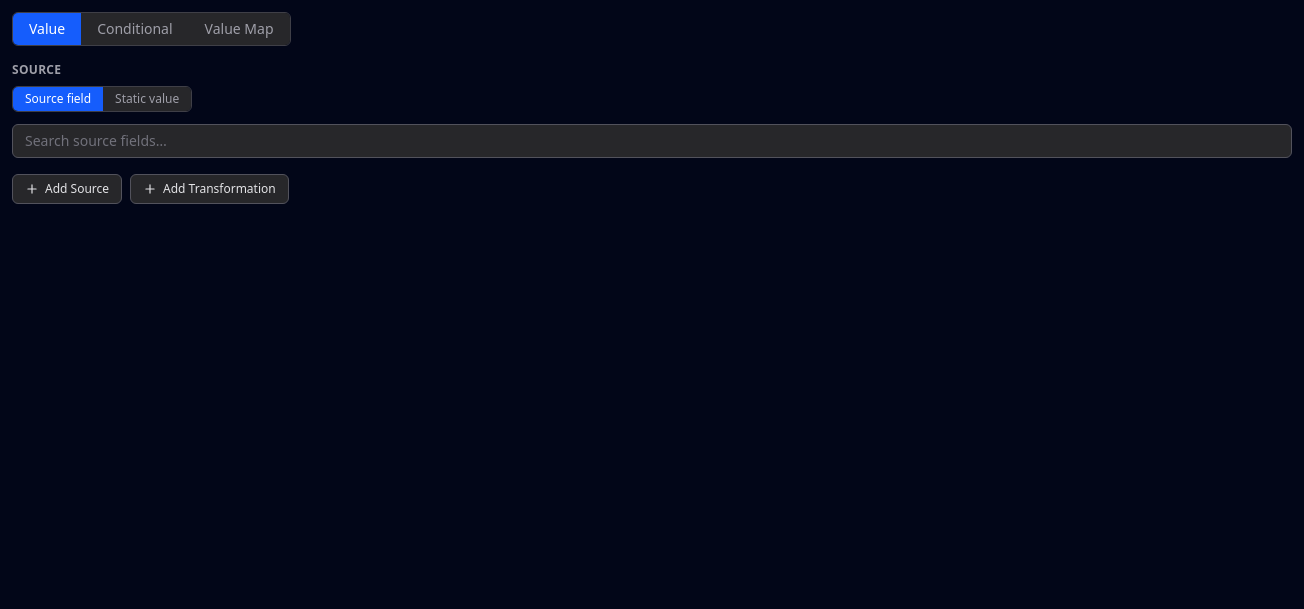
Scenario: T-09 — AE-03: Add Transformation from empty state › selecting concat from empty state renders ArgumentForm for concat
The width and height of the screenshot is (1304, 609).
Click the button with test id "builder-add-transform-btn": {"x": 209, "y": 189} [130,174,289,204]
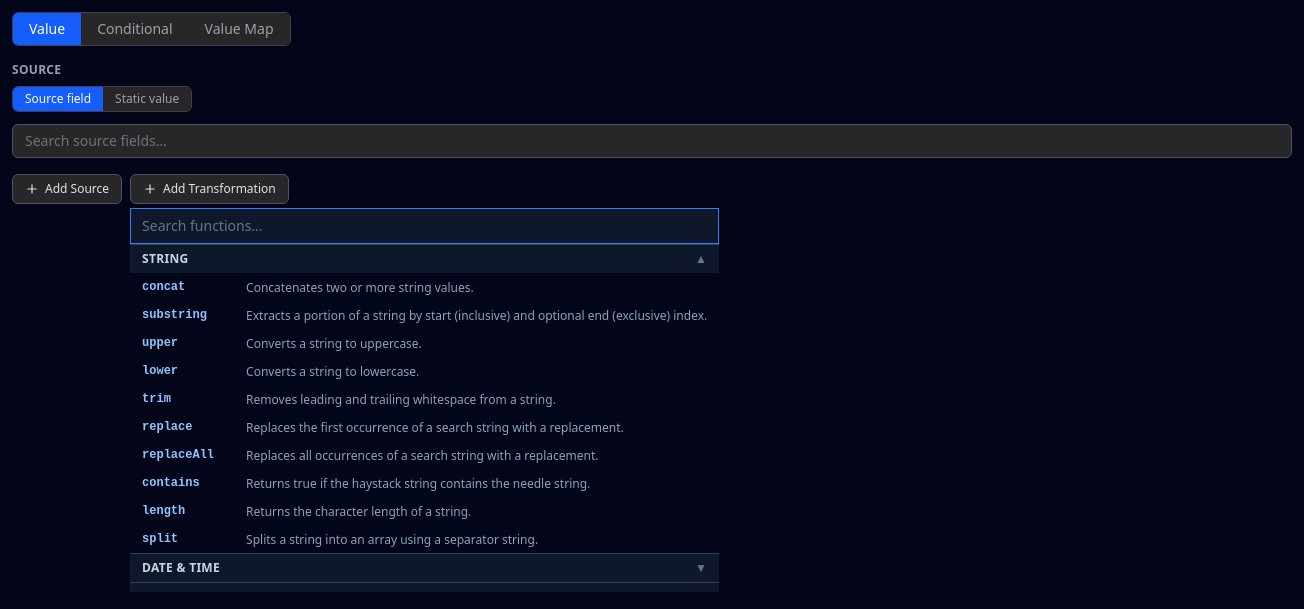
Click the button with test id "transform-fn-concat": {"x": 425, "y": 287} [130,273,719,301]
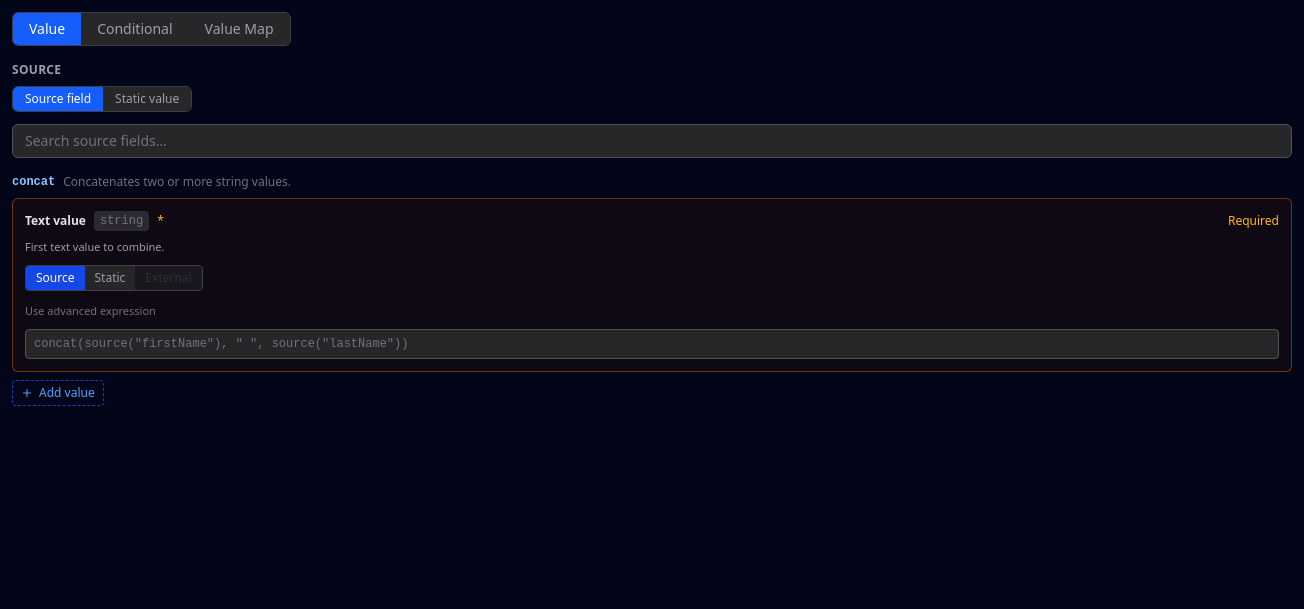
Check: the element with test id "argument-form-concat" is shown, box [12,174,1292,406]
